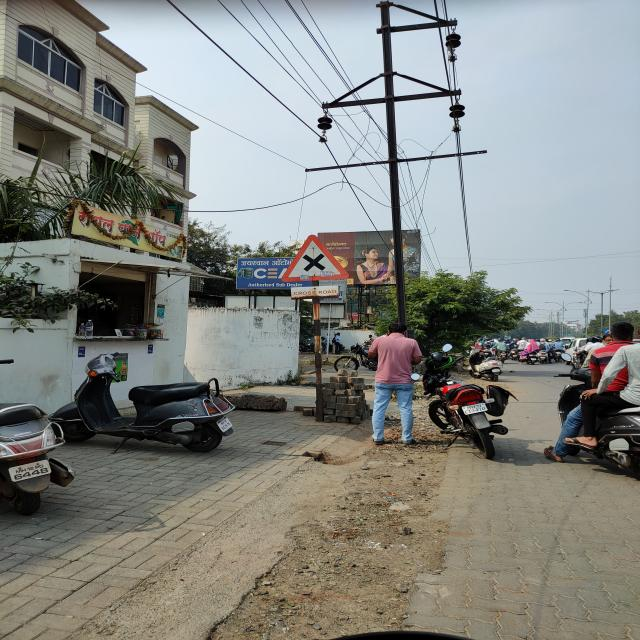CROSS_ROAD: (281, 234, 351, 283)
